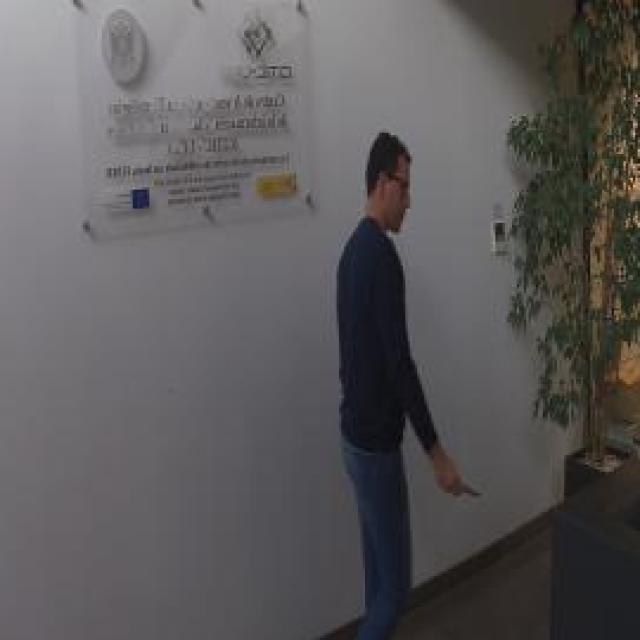knife: (438, 464, 486, 502)
